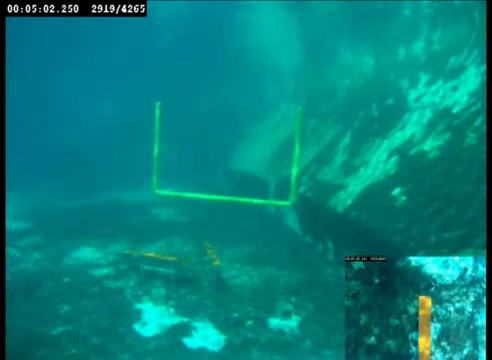channel: (146, 95, 307, 207)
